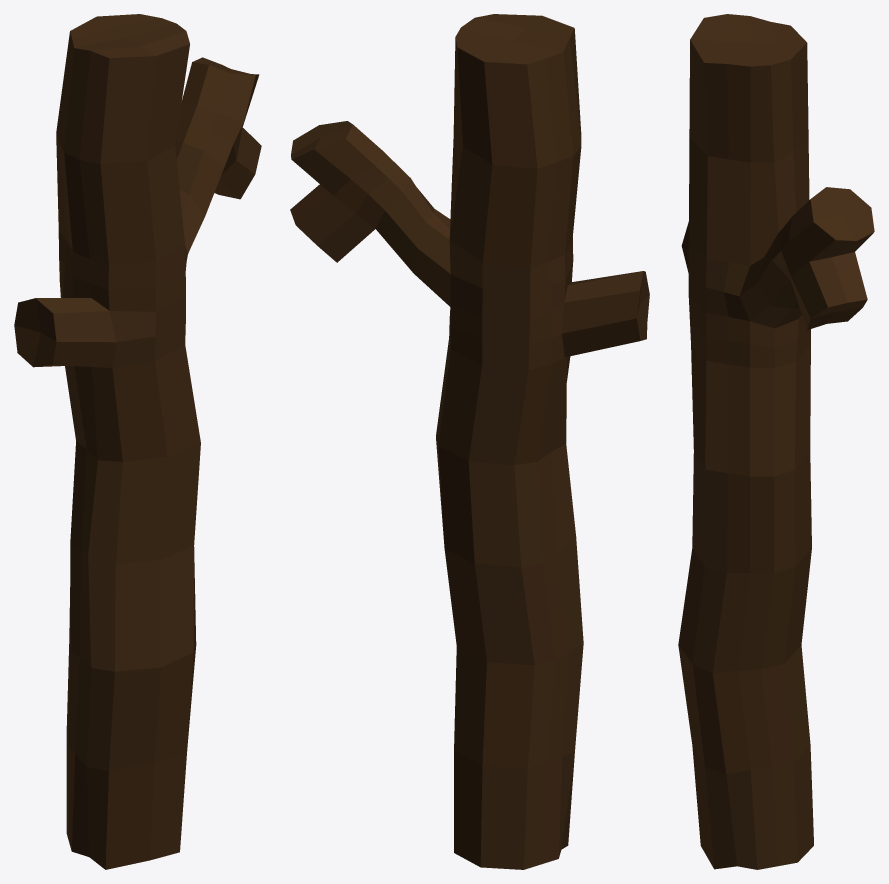
Rendered from Columna.fbx.
3 views of the same model, side by side, from view 1: azimuth 30°, elevation 25°; view 2: azimuth 150°, elevation 25°; view 3: azimuth 270°, elevation 25° (orthographic).
Parts seen in each view (by area): view 1: Columna:Mesh; view 2: Columna:Mesh; view 3: Columna:Mesh.
Part boxes in pixels (left/top/right/bottom): Columna:Mesh: left=14, top=14, right=261, bottom=869; Columna:Mesh: left=290, top=14, right=649, bottom=869; Columna:Mesh: left=678, top=14, right=874, bottom=869.
Size of the model in its own units: 8.44 by 22.33 by 4.88.
